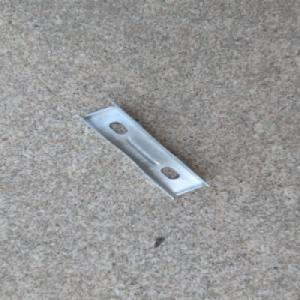ClampPart: (67, 96, 213, 202)
